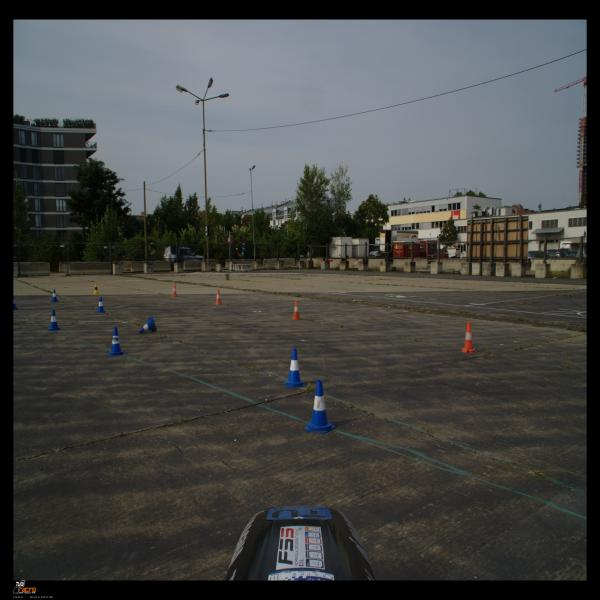blue_cone: (304, 380, 335, 434), (284, 349, 305, 387), (106, 327, 126, 356), (46, 310, 62, 330), (139, 316, 156, 334), (95, 297, 107, 313), (50, 290, 59, 302), (14, 295, 20, 310)
orange_cone: (460, 322, 477, 353), (290, 300, 302, 320), (214, 289, 223, 305), (171, 284, 178, 297)
yellow_cone: (92, 284, 100, 294)
